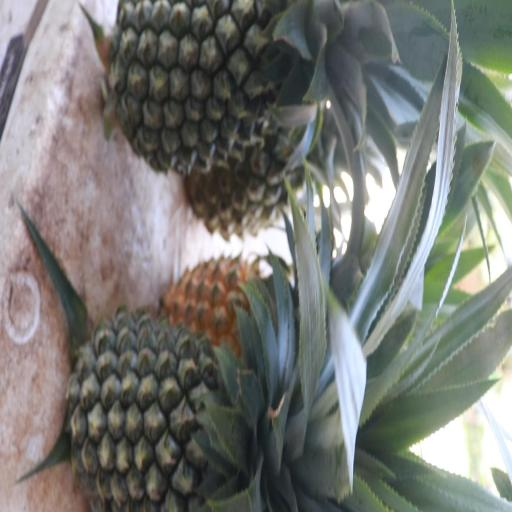Pineapple - v8 v1: (168, 244, 289, 372)
